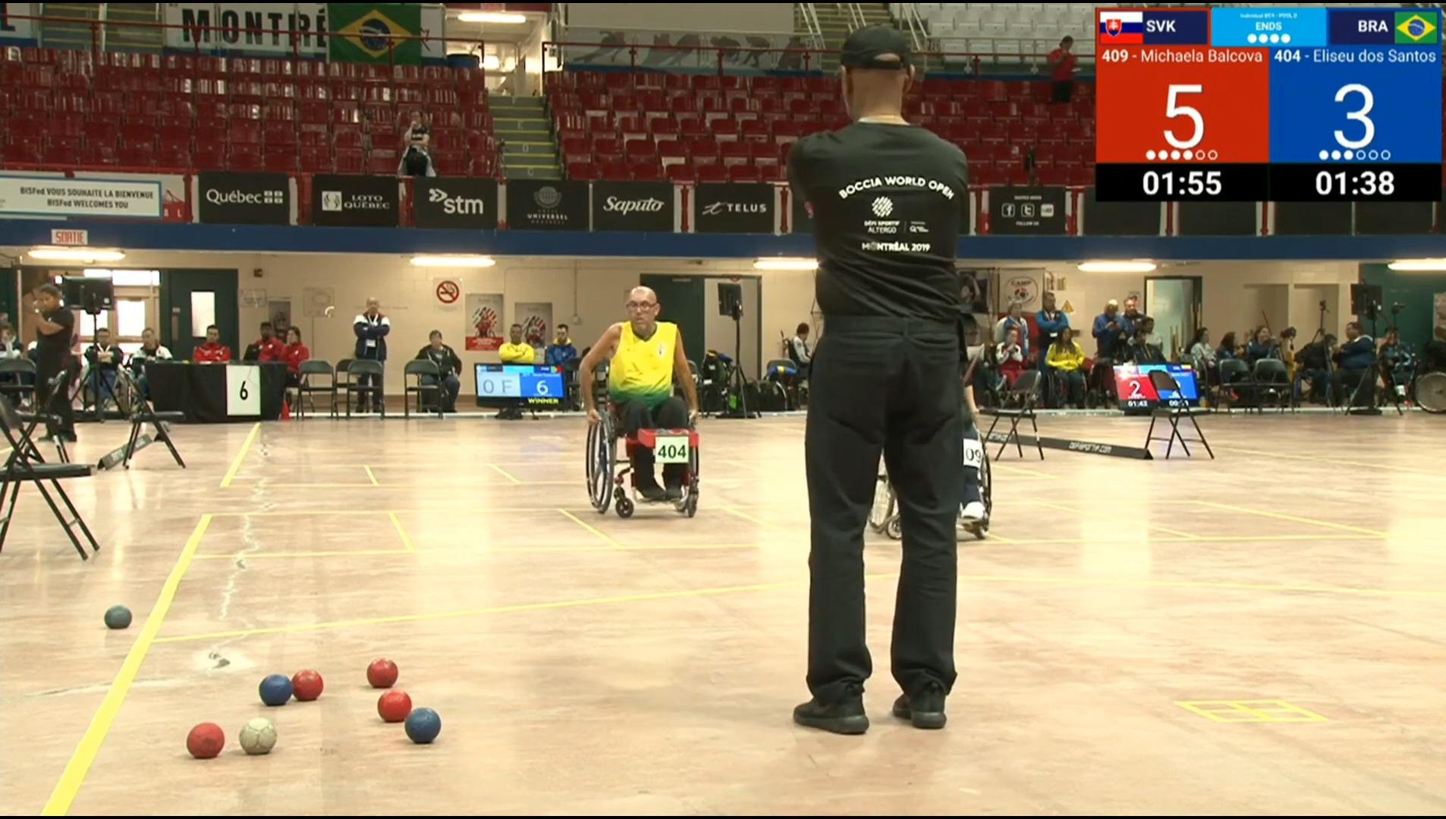blue_ball: (405, 707, 442, 745), (260, 674, 293, 708)
red_ball: (185, 722, 226, 761), (377, 689, 411, 724), (365, 657, 400, 688), (292, 670, 324, 702)
white_ball: (241, 717, 277, 757)
